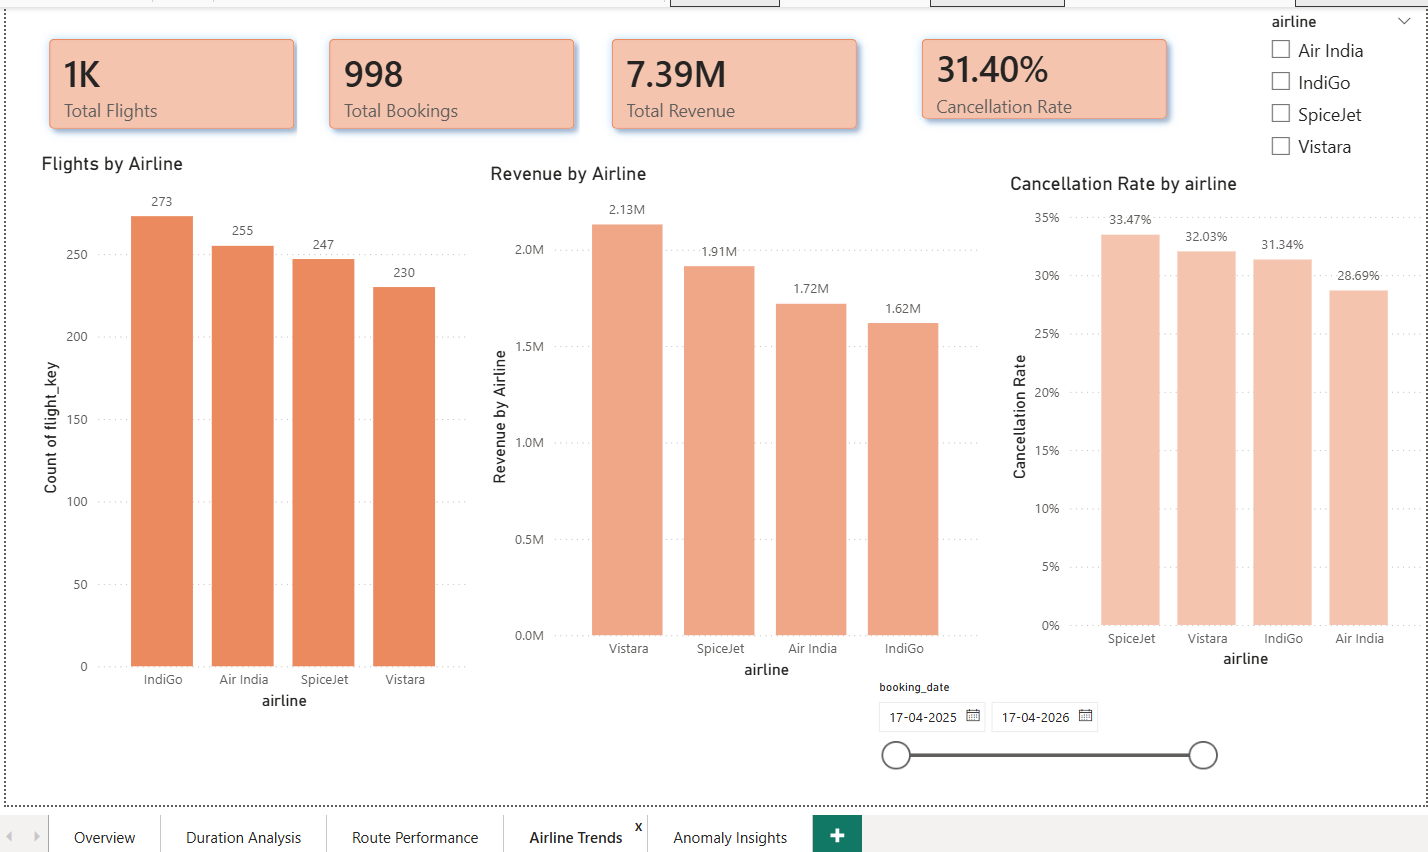

The page's visual inventory and layout, read from the dashboard file:
{"tool":"powerbi","page":{"name":"Airline Trends","canvas":[1280,720],"ordinal":3},"visuals":[{"type":"cardVisual","fields":{"Data":["airlines_dw flights.Total Flights"]},"box":[9.6,0,279.9,140],"z":0},{"type":"cardVisual","fields":{"Data":["airlines_dw valid_booking_flights.Total Bookings"]},"box":[262.1,0,279.9,140],"z":1},{"type":"cardVisual","fields":{"Data":["airlines_dw payments.Total Revenue"]},"box":[517.3,0,279.9,140],"z":2},{"type":"cardVisual","fields":{"Data":["airlines_dw bookings.Cancellation Rate"]},"box":[797.3,0,279.9,130.4],"z":3},{"type":"clusteredColumnChart","title":"Flights by Airline","fields":{"Category":["airlines_dw flights.airline"],"Y":["CountNonNull(airlines_dw flights.flight_key)"]},"box":[27.4,130.4,396.6,507.7],"z":4},{"type":"clusteredColumnChart","title":"Revenue by Airline","fields":{"Category":["airlines_dw valid_booking_flights.airline"],"Y":["airlines_dw payments.Revenue by Airline"]},"box":[432.2,140,450.1,470.7],"z":5},{"type":"clusteredColumnChart","title":"Cancellation Rate by airline","fields":{"Y":["airlines_dw valid_booking_flights.Cancellation Rate2"],"Category":["airlines_dw flights.airline"]},"box":[900,149.2,380.3,452.4],"z":6},{"type":"slicer","fields":{"Values":["airlines_dw valid_booking_flights.airline"]},"box":[1128.7,0,151.6,160.2],"z":7},{"type":"slicer","fields":{"Values":["airlines_dw bookings.booking_date"]},"box":[774.1,601.6,326.5,118.6],"z":10}]}

Visuals, with their boxes on the page's 1280x720 design canvas (x1, y1, x2, y2). These are canvas units, not pixel positions in the 1428x852 screenshot, which may show the page scaled, cropped or inside an application window:
cardVisual - airlines_dw flights.Total Flights: bbox(10, 0, 290, 140)
cardVisual - airlines_dw valid_booking_flights.Total Bookings: bbox(262, 0, 542, 140)
cardVisual - airlines_dw payments.Total Revenue: bbox(517, 0, 797, 140)
cardVisual - airlines_dw bookings.Cancellation Rate: bbox(797, 0, 1077, 130)
"Flights by Airline" clusteredColumnChart: bbox(27, 130, 424, 638)
"Revenue by Airline" clusteredColumnChart: bbox(432, 140, 882, 611)
"Cancellation Rate by airline" clusteredColumnChart: bbox(900, 149, 1280, 602)
slicer - airlines_dw valid_booking_flights.airline: bbox(1129, 0, 1280, 160)
slicer - airlines_dw bookings.booking_date: bbox(774, 602, 1101, 720)
